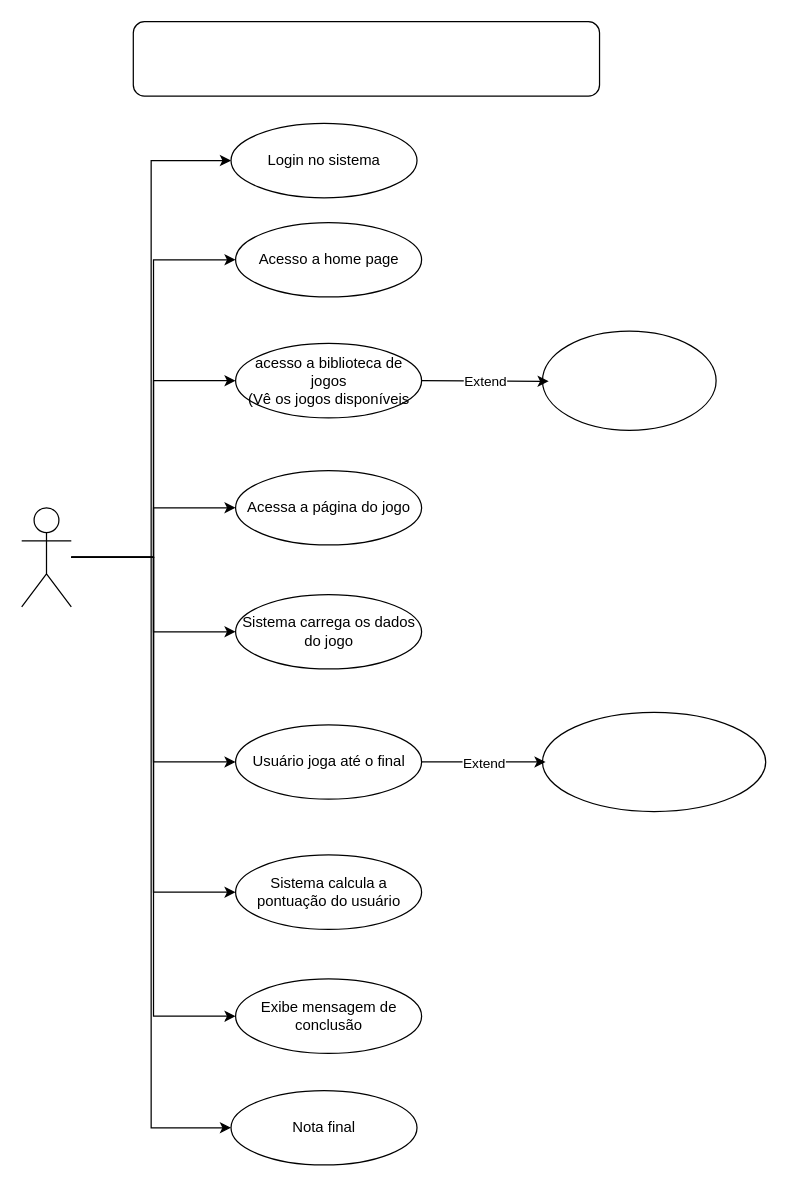
This 787x1187 diagram has some shape labels left out. The centre of each missing label's shape, as x and y in pixels:
Aluno: the point at 45,557
Caso de uso 1: usuário interagindo com o sistema: the point at 366,58
Nenhum jogo disponível no momento: the point at 628,380
Não joga até o final e exibe mensagem se quer salvar progresso: the point at 653,761
